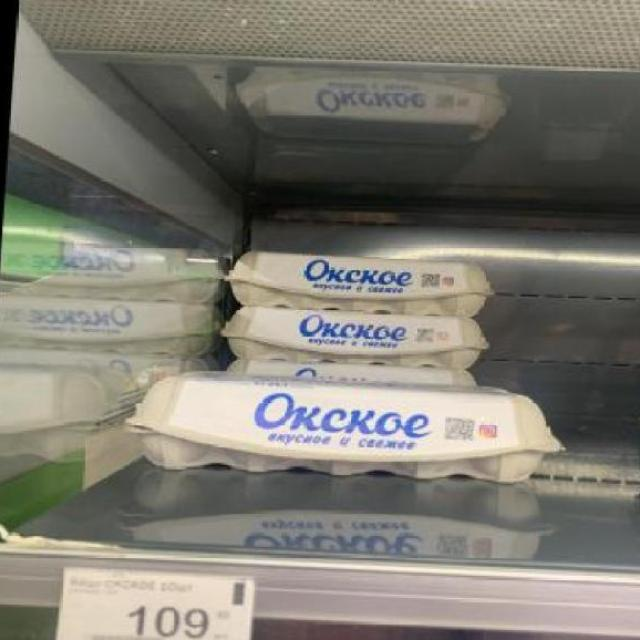Egg: (112, 365, 581, 492), (217, 247, 494, 320), (209, 306, 488, 367)
